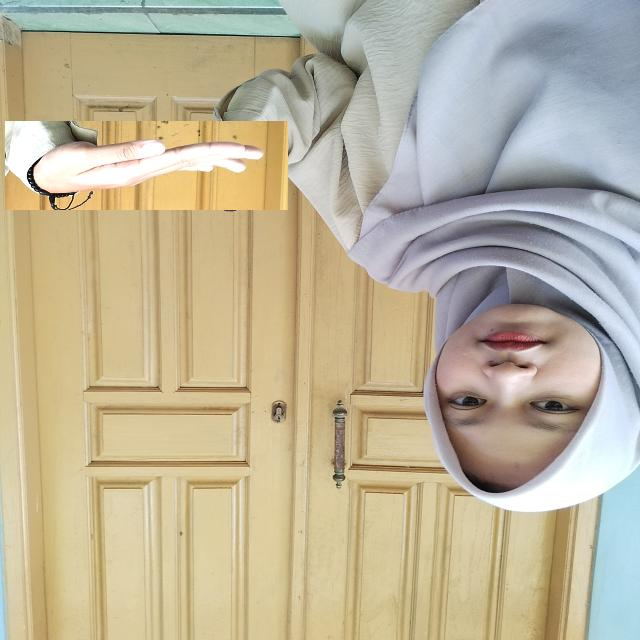adik: (5, 121, 288, 210)
